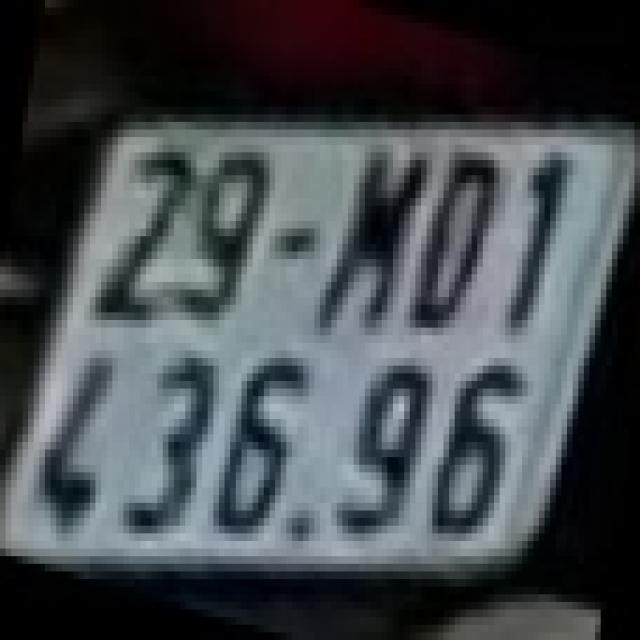1: (505, 144, 573, 336)
2: (96, 145, 186, 320)
3: (124, 351, 214, 534)
4: (40, 343, 112, 541)
6: (432, 358, 522, 541), (219, 351, 303, 534)
9: (331, 358, 427, 533), (180, 145, 264, 320)
D: (416, 144, 494, 336)
M: (311, 130, 424, 336)
